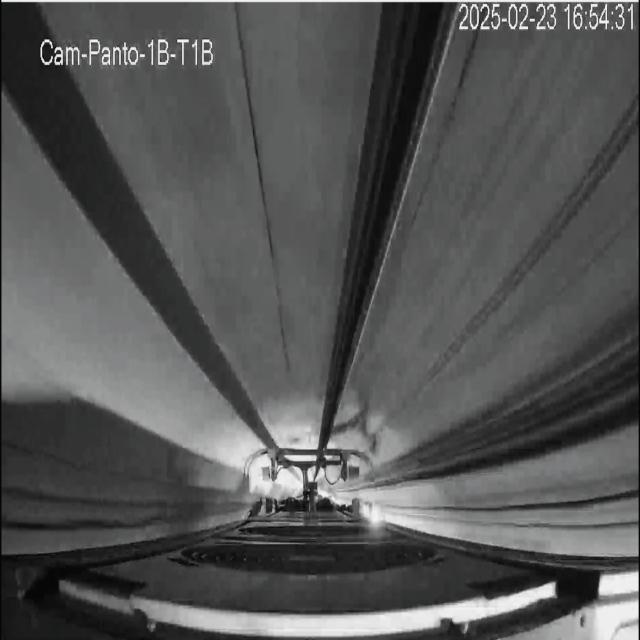Camera Stamp: (37, 30, 221, 71)
Date Stamp: (458, 3, 635, 33)
No - Spark: (215, 382, 363, 488)
